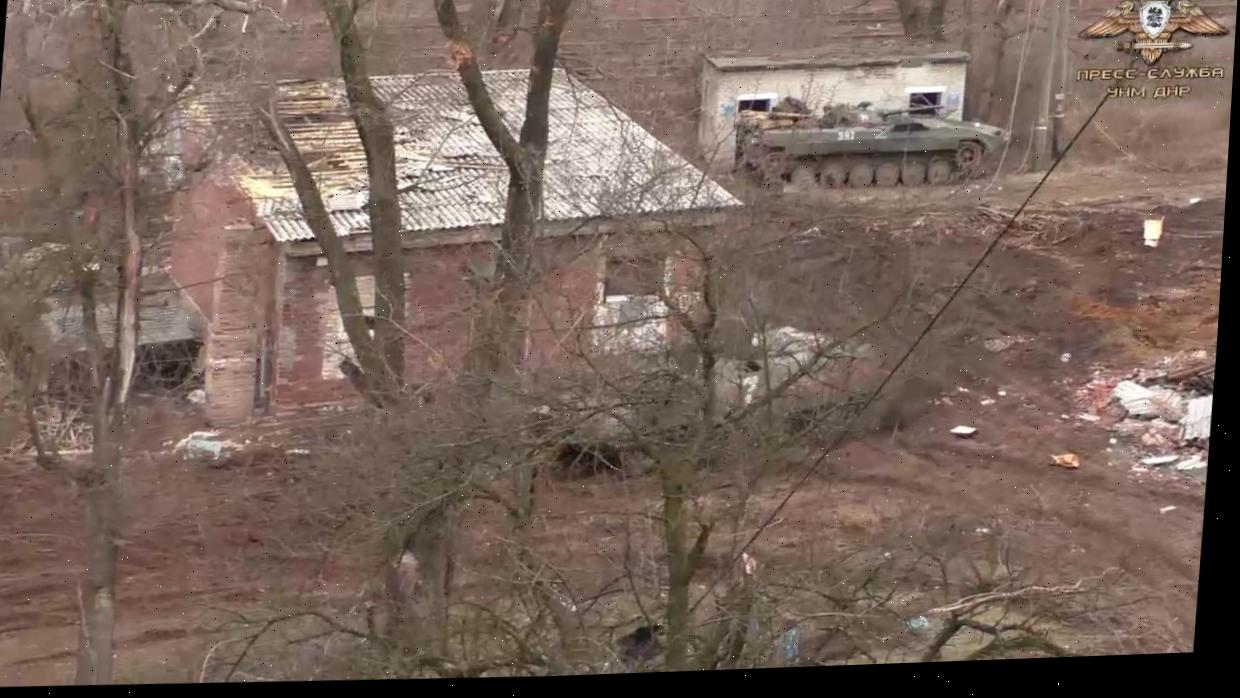tank: (520, 302, 920, 494), (0, 231, 214, 422), (733, 92, 1010, 199)
